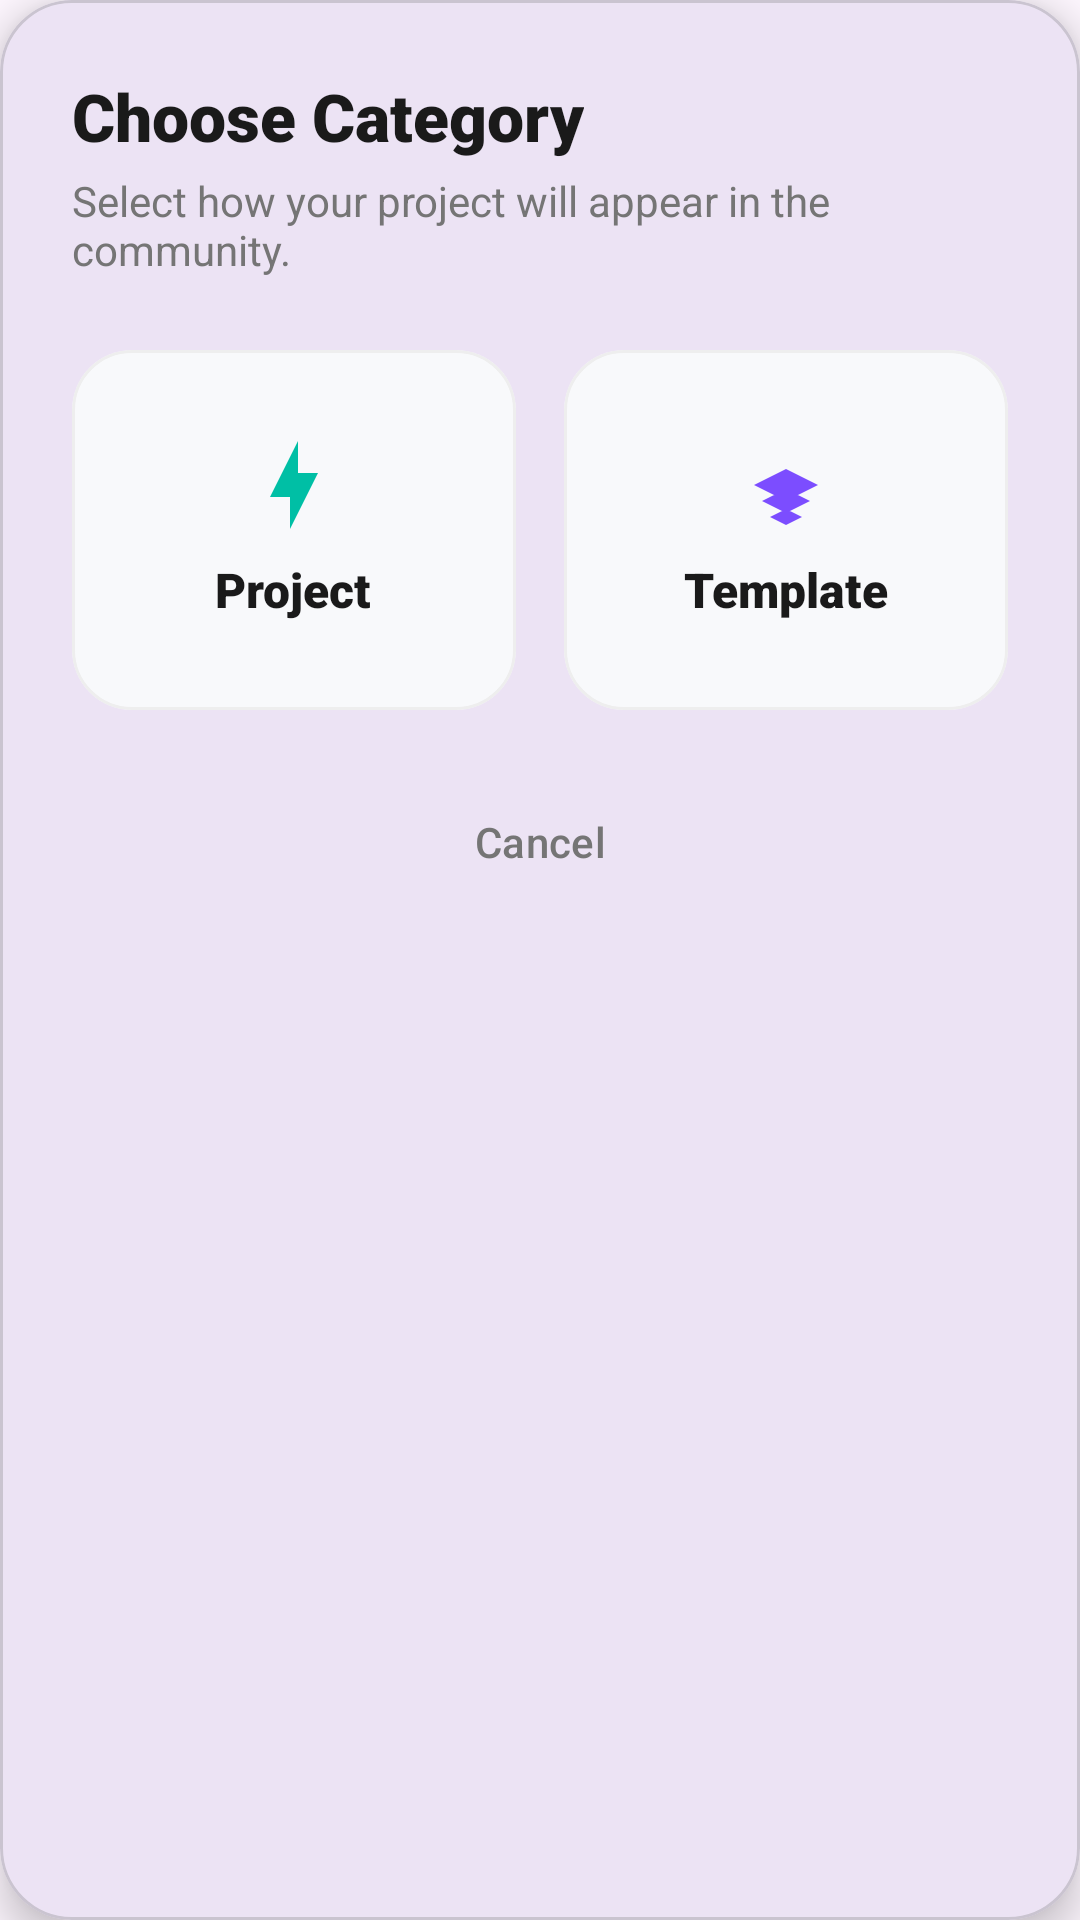

Icon click points for this 1080x1920 phone screenshot, format (x,y):
bolt: (294,485)
layers: (786,497)
